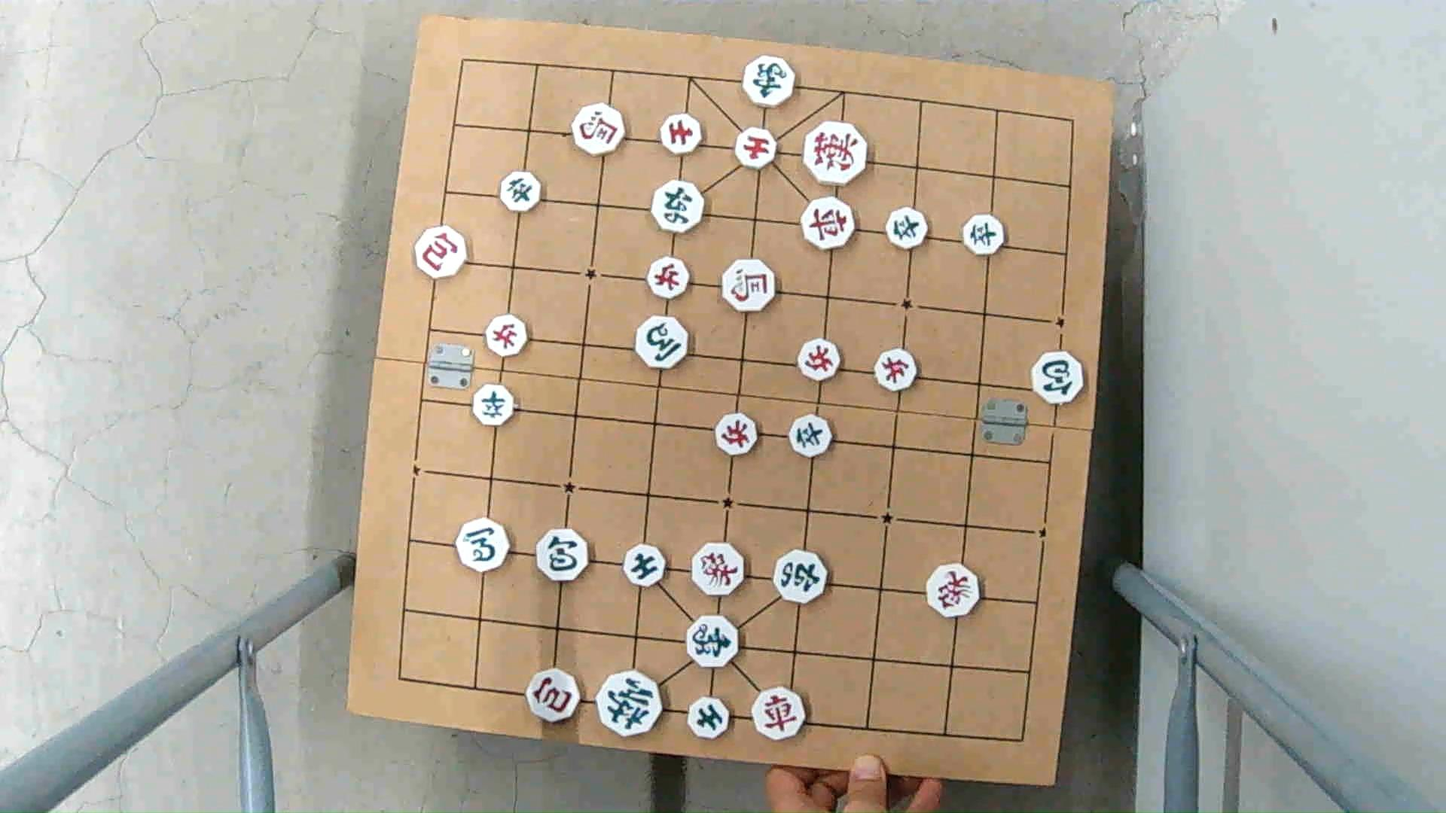cha_green: (775, 549, 826, 607), (651, 184, 707, 234)
cha_red: (751, 689, 807, 739), (800, 199, 855, 249)
jol_green: (471, 386, 517, 425), (789, 418, 834, 457), (883, 208, 928, 246), (961, 216, 1005, 254), (502, 172, 545, 210)
jol_red: (485, 318, 530, 358), (798, 343, 844, 382), (869, 351, 914, 390), (645, 260, 690, 299), (715, 416, 760, 455)
ma_green: (635, 320, 692, 369), (454, 522, 511, 569)
ma_red: (568, 106, 628, 157), (724, 259, 779, 307)
po_green: (1030, 353, 1087, 403), (535, 529, 589, 580)
po_red: (523, 670, 581, 721), (416, 230, 471, 279)
sa_green: (687, 699, 733, 738), (624, 546, 667, 584)
sa_red: (734, 129, 779, 169), (662, 114, 705, 153)
sang_green: (684, 616, 740, 666), (740, 59, 796, 107)
sang_red: (692, 543, 746, 597), (924, 566, 982, 614)
wang_green: (596, 673, 665, 733)
wang_red: (801, 124, 868, 181)
